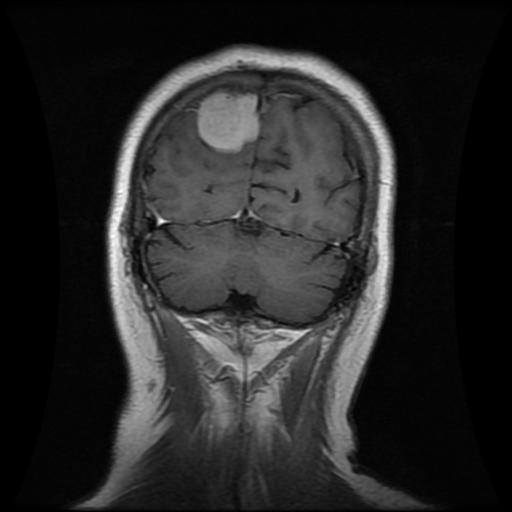Menigiomia_tumour: (197, 90, 259, 152)
